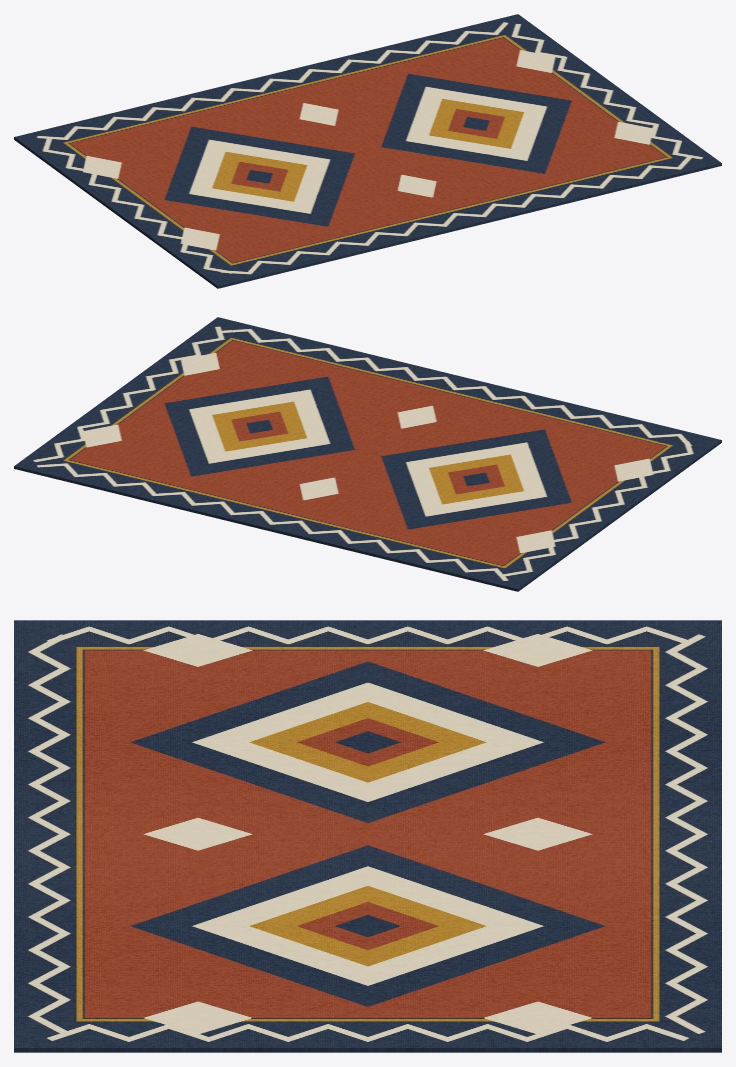
File: alfombra_kilim_140x200.glb
The picture shows the model from 3 angles, top to bottom: view 1: azimuth 30°, elevation 25°; view 2: azimuth 150°, elevation 25°; view 3: azimuth 270°, elevation 25°; orthographic projection. The views are drawn at different scales.
Visible parts, largest first — view 1: alfombra_kilim_140x200; view 2: alfombra_kilim_140x200; view 3: alfombra_kilim_140x200.
Part boxes in pixels (x1=…): alfombra_kilim_140x200: x1=14, y1=14, x2=721, y2=288; alfombra_kilim_140x200: x1=14, y1=317, x2=721, y2=591; alfombra_kilim_140x200: x1=14, y1=620, x2=721, y2=1052.
Bounding box in the file's own units: 2 × 0.01 × 1.4.
Materials: 1 (1 with a texture image).
